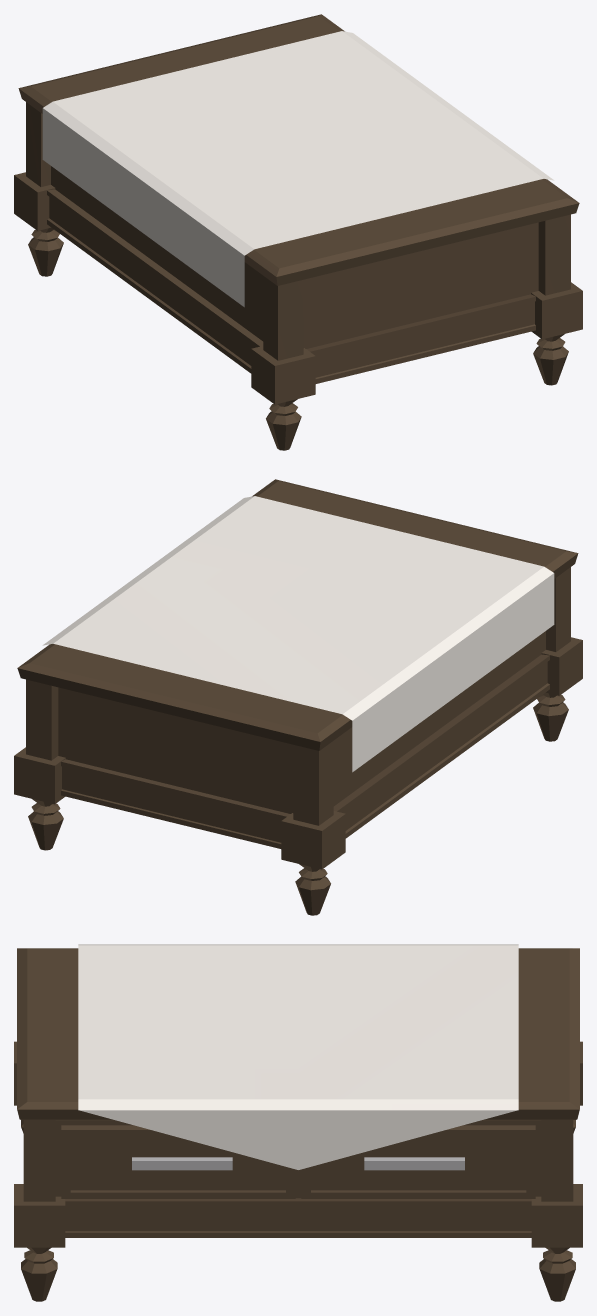
File: SM_Table_03.glb
The picture shows the model from 3 angles, top to bottom: view 1: azimuth 30°, elevation 25°; view 2: azimuth 150°, elevation 25°; view 3: azimuth 270°, elevation 25°; orthographic projection. The views are drawn at different scales.
Visible parts, largest first — view 1: SM_Table_03; view 2: SM_Table_03; view 3: SM_Table_03.
Part boxes in pixels (x1,y1,x2,y2): SM_Table_03: [14, 14, 582, 450]; SM_Table_03: [14, 479, 582, 915]; SM_Table_03: [14, 944, 582, 1301].
Size of the model in its own units: 0.6342 by 0.3676 by 0.9236.
1 material, 1 textured.
